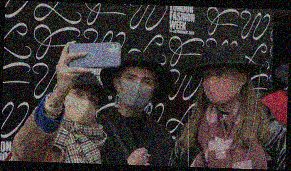with_mask: (63, 86, 99, 125), (120, 72, 156, 111), (203, 67, 239, 104)
